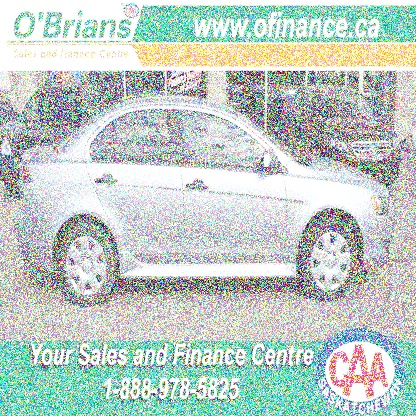Vehicle: (12, 93, 398, 307)
